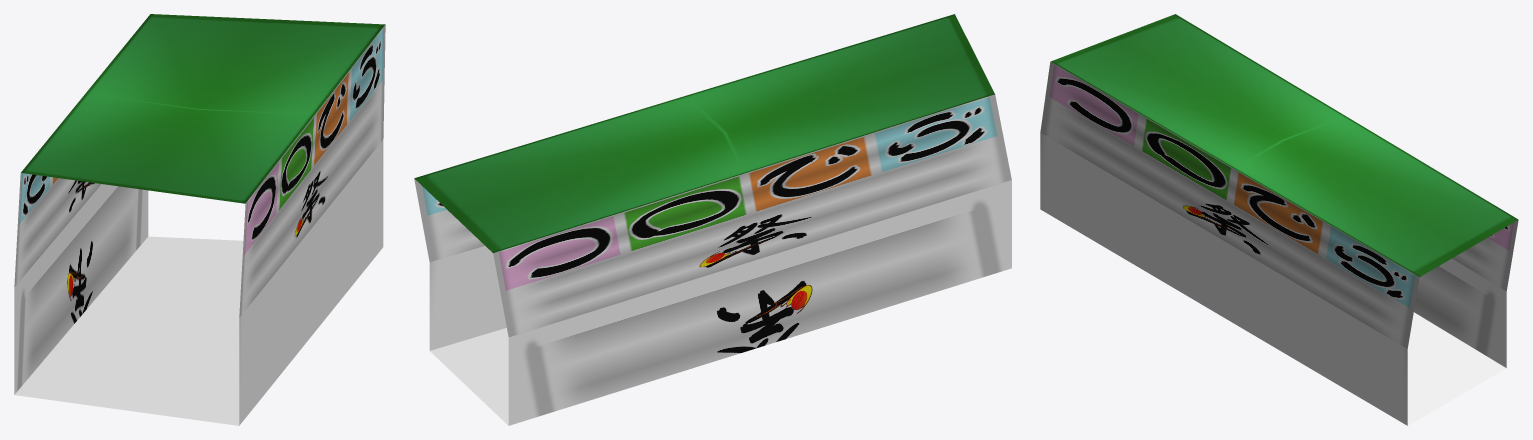
The model's file is CourseAki_Wall_R_4_7.fbx.
3 views of the same model, side by side, from view 1: azimuth 30°, elevation 25°; view 2: azimuth 150°, elevation 25°; view 3: azimuth 270°, elevation 25° (orthographic). The views are drawn at different scales.
Parts seen in each view (by area): view 1: polySurface330; view 2: polySurface330; view 3: polySurface330.
Boxes of the visible parts, x1,y1,x2,y2 form: polySurface330: [14, 14, 385, 425]; polySurface330: [414, 14, 1011, 425]; polySurface330: [1040, 14, 1518, 425].
Size of the model in its own units: 5.34 by 2.98 by 5.65.
1 material, 1 textured.
